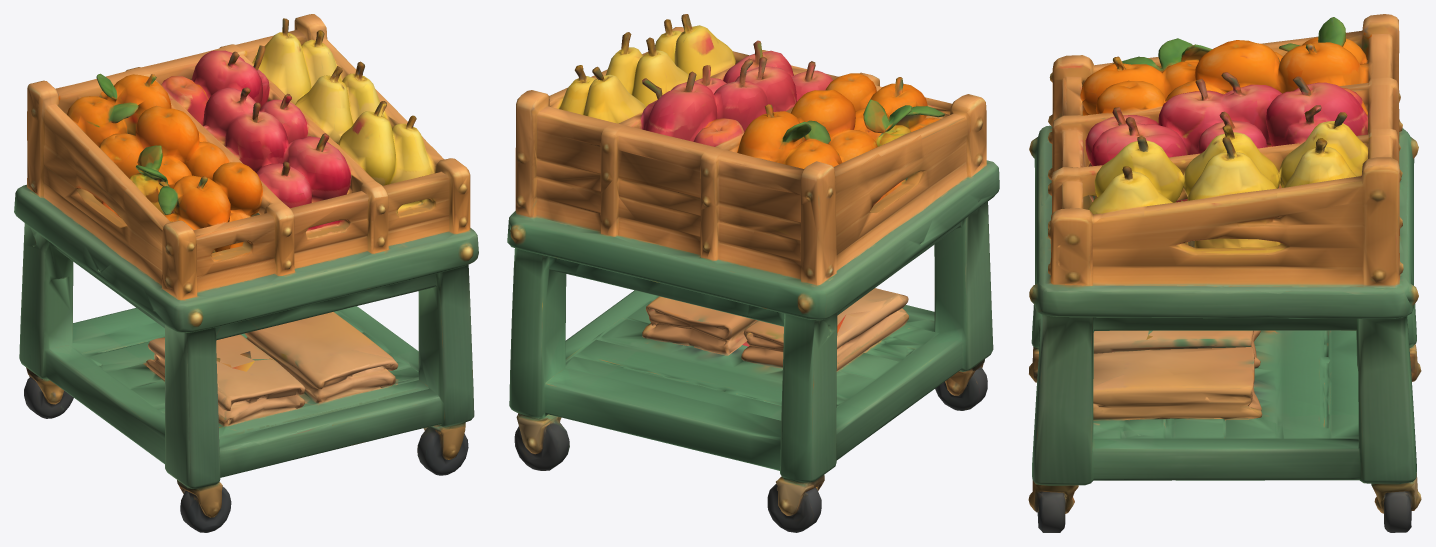
Rendered from MarketProduceAI.fbx.
3 views of the same model, side by side, from view 1: azimuth 30°, elevation 25°; view 2: azimuth 150°, elevation 25°; view 3: azimuth 270°, elevation 25° (orthographic). The views are drawn at different scales.
Visible parts, largest first — view 1: MarketProduceAI_Mesh_0; view 2: MarketProduceAI_Mesh_0; view 3: MarketProduceAI_Mesh_0.
Part boxes in pixels (x1=…): MarketProduceAI_Mesh_0: x1=14, y1=14, x2=478, y2=532; MarketProduceAI_Mesh_0: x1=507, y1=14, x2=999, y2=532; MarketProduceAI_Mesh_0: x1=1028, y1=14, x2=1421, y2=532.
Size of the model in its own units: 1.04 by 1.18 by 1.04.
